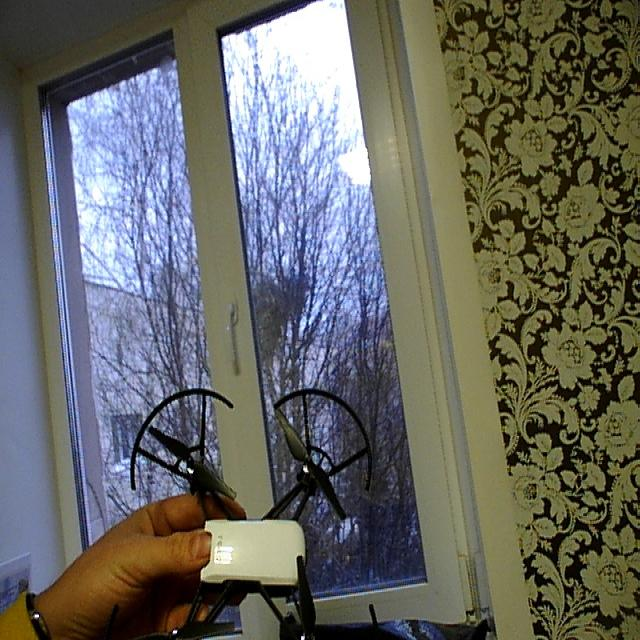drone: (118, 382, 381, 640)
